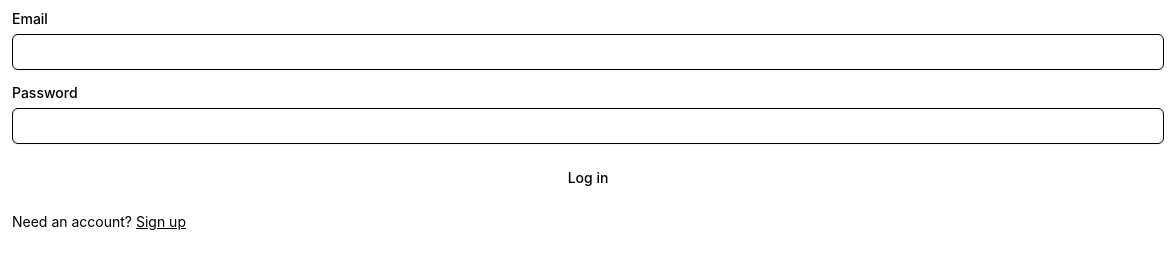
Test: LoginForm › shows email format error for invalid email
Type "not-an-email" into the field labelled "Email".
click(588, 52); type("not-an-email")  # box [12,34,1164,70]
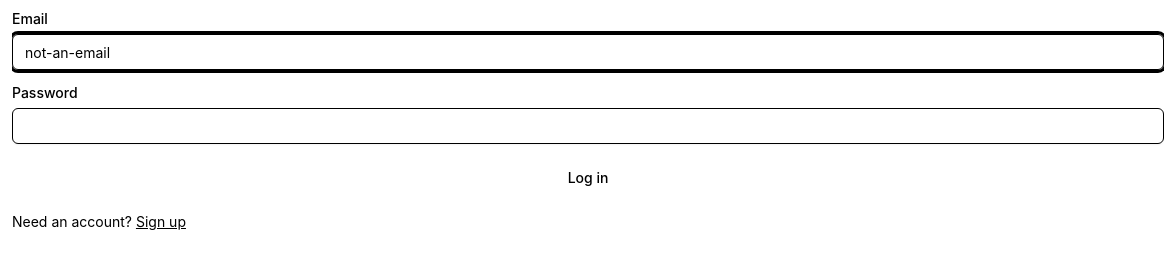
Type "anything" into the password field labelled "Password".
click(588, 126); type("anything")  # box [12,108,1164,144]
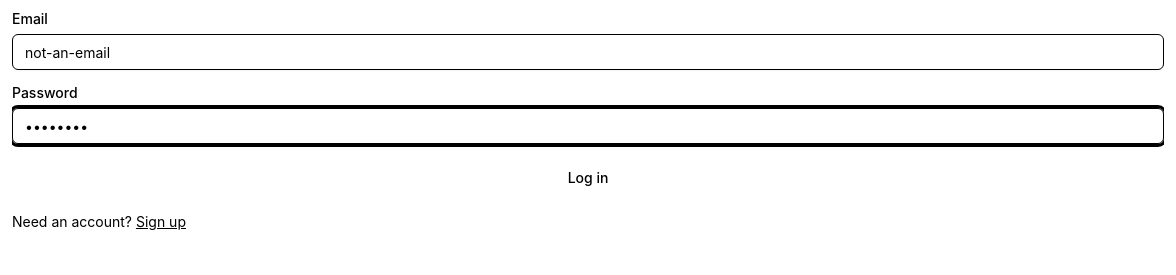
Click the button "Log in".
click(588, 178)  # box [12,160,1164,196]
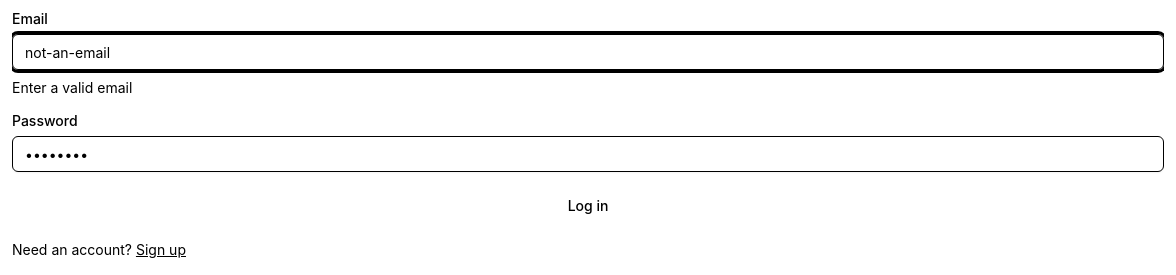
Result: the text "Enter a valid email" is shown at [12,79,132,96]
